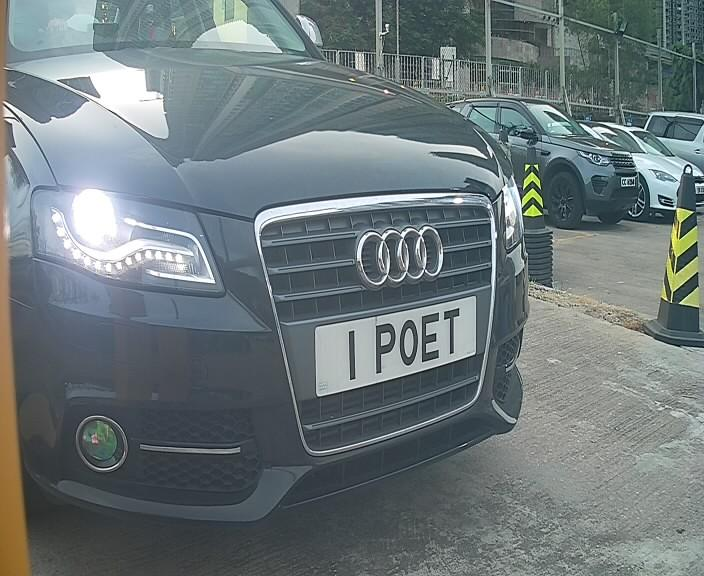License Plate: (309, 291, 481, 402)
